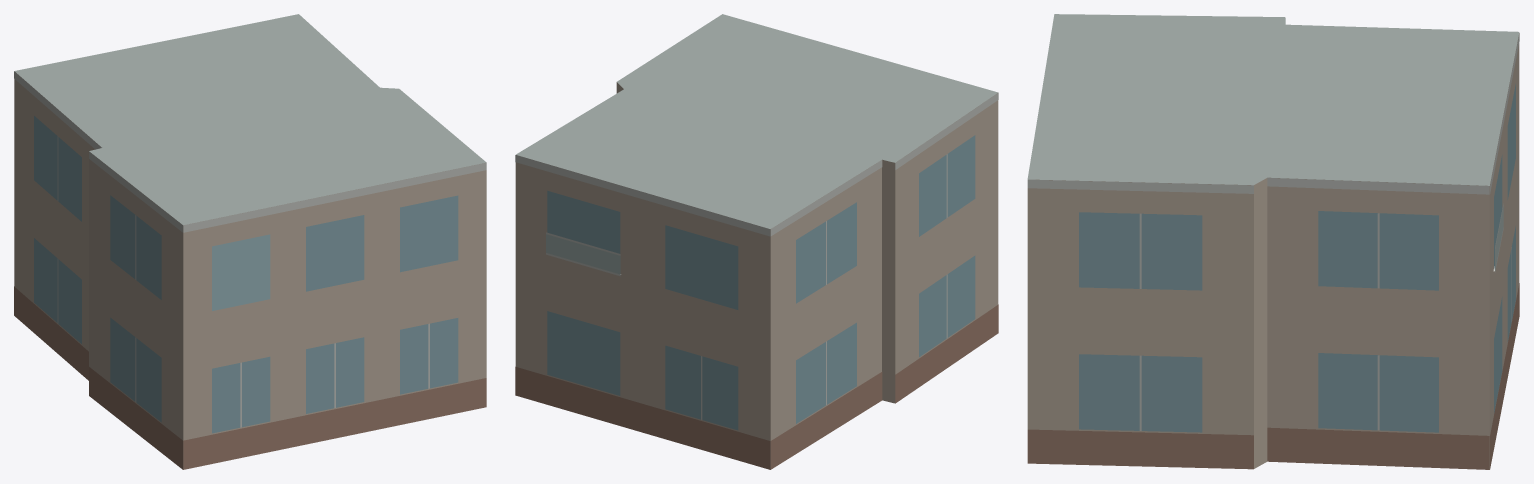
Rendered from survey-upis-32936109.glb.
The picture shows the model from 3 angles, left to right: view 1: azimuth 30°, elevation 25°; view 2: azimuth 150°, elevation 25°; view 3: azimuth 270°, elevation 25°; orthographic projection. The views are drawn at different scales.
Visible parts, largest first — view 1: survey-upis-32936109.tmp; view 2: survey-upis-32936109.tmp; view 3: survey-upis-32936109.tmp.
Part boxes in pixels (bbox=[...]): survey-upis-32936109.tmp: bbox=[14, 14, 486, 469]; survey-upis-32936109.tmp: bbox=[515, 14, 998, 469]; survey-upis-32936109.tmp: bbox=[1027, 14, 1519, 469].
Size of the model in its own units: 10.26 by 7.9 by 12.41.
